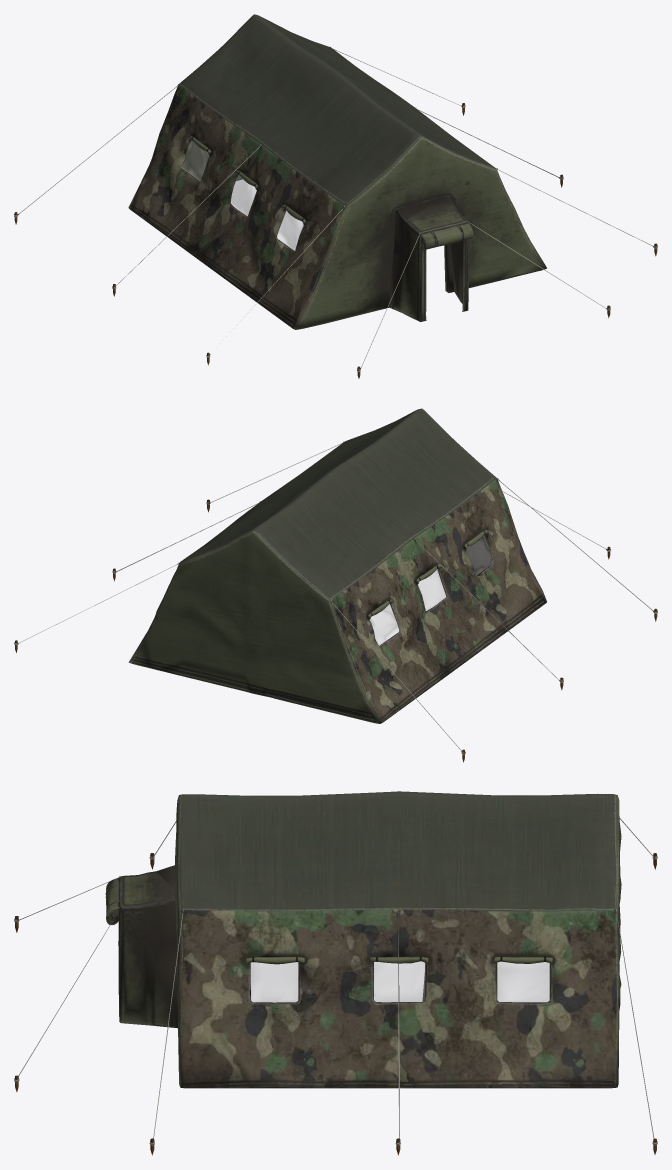
Rendered from tent.glb.
The picture shows the model from 3 angles, top to bottom: view 1: azimuth 30°, elevation 25°; view 2: azimuth 150°, elevation 25°; view 3: azimuth 270°, elevation 25°; orthographic projection. The views are drawn at different scales.
Visible parts, largest first — view 1: Military_tent_01_0, Military_tent_Glass_0; view 2: Military_tent_01_0, Military_tent_Glass_0; view 3: Military_tent_01_0, Military_tent_Glass_0.
Boxes of the visible parts, box(x1,y1,x2,y2) form: Military_tent_01_0: box(14, 14, 657, 378); Military_tent_Glass_0: box(182, 140, 303, 250); Military_tent_01_0: box(14, 408, 657, 762); Military_tent_Glass_0: box(369, 535, 492, 645); Military_tent_01_0: box(14, 791, 657, 1155); Military_tent_Glass_0: box(251, 961, 549, 1002).
Bounding box in the file's own units: 11.17 × 4 × 10.55.
Materials: 2 (1 with a texture image).
